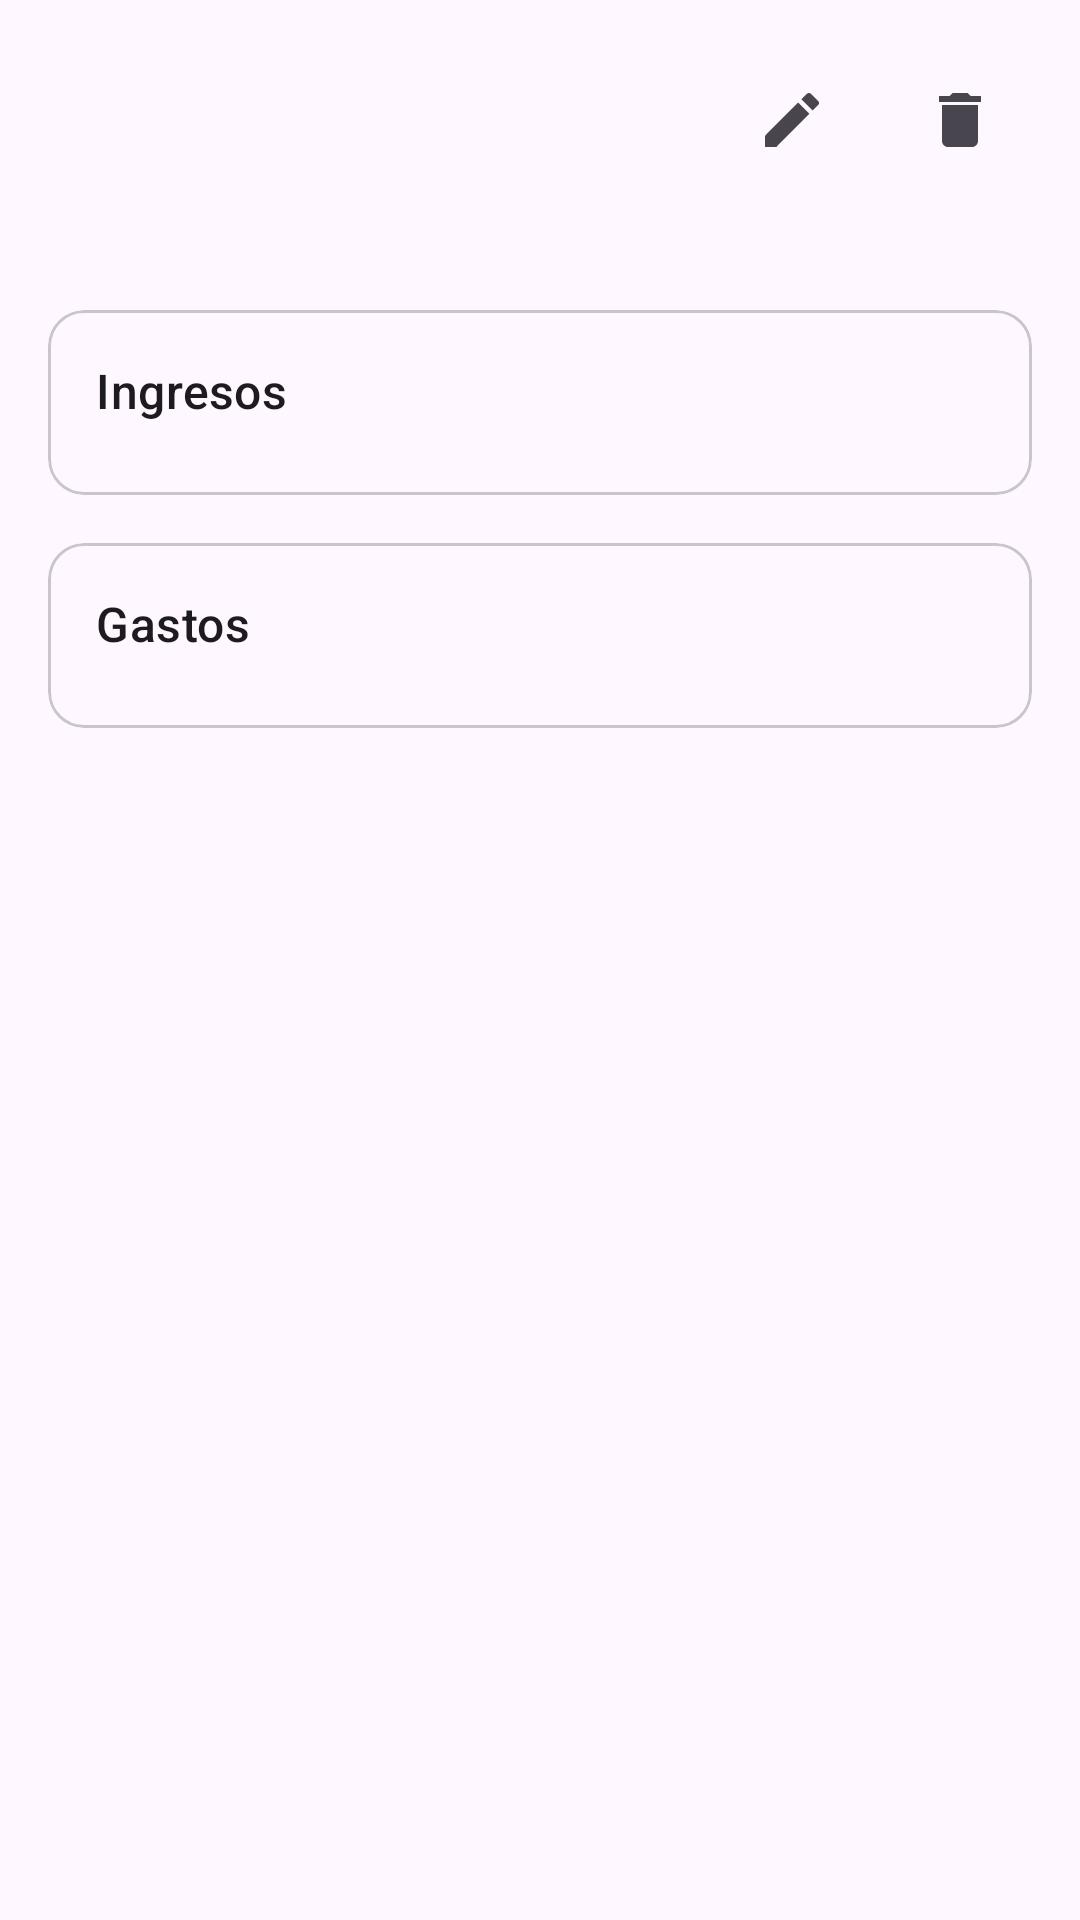

Named icons in this screenshot (1080x1920) and their bounding boxes, (x1, y1, x2, y2):
Editar Cuenta: (765, 93, 819, 147)
Eliminar Cuenta: (939, 93, 981, 147)
